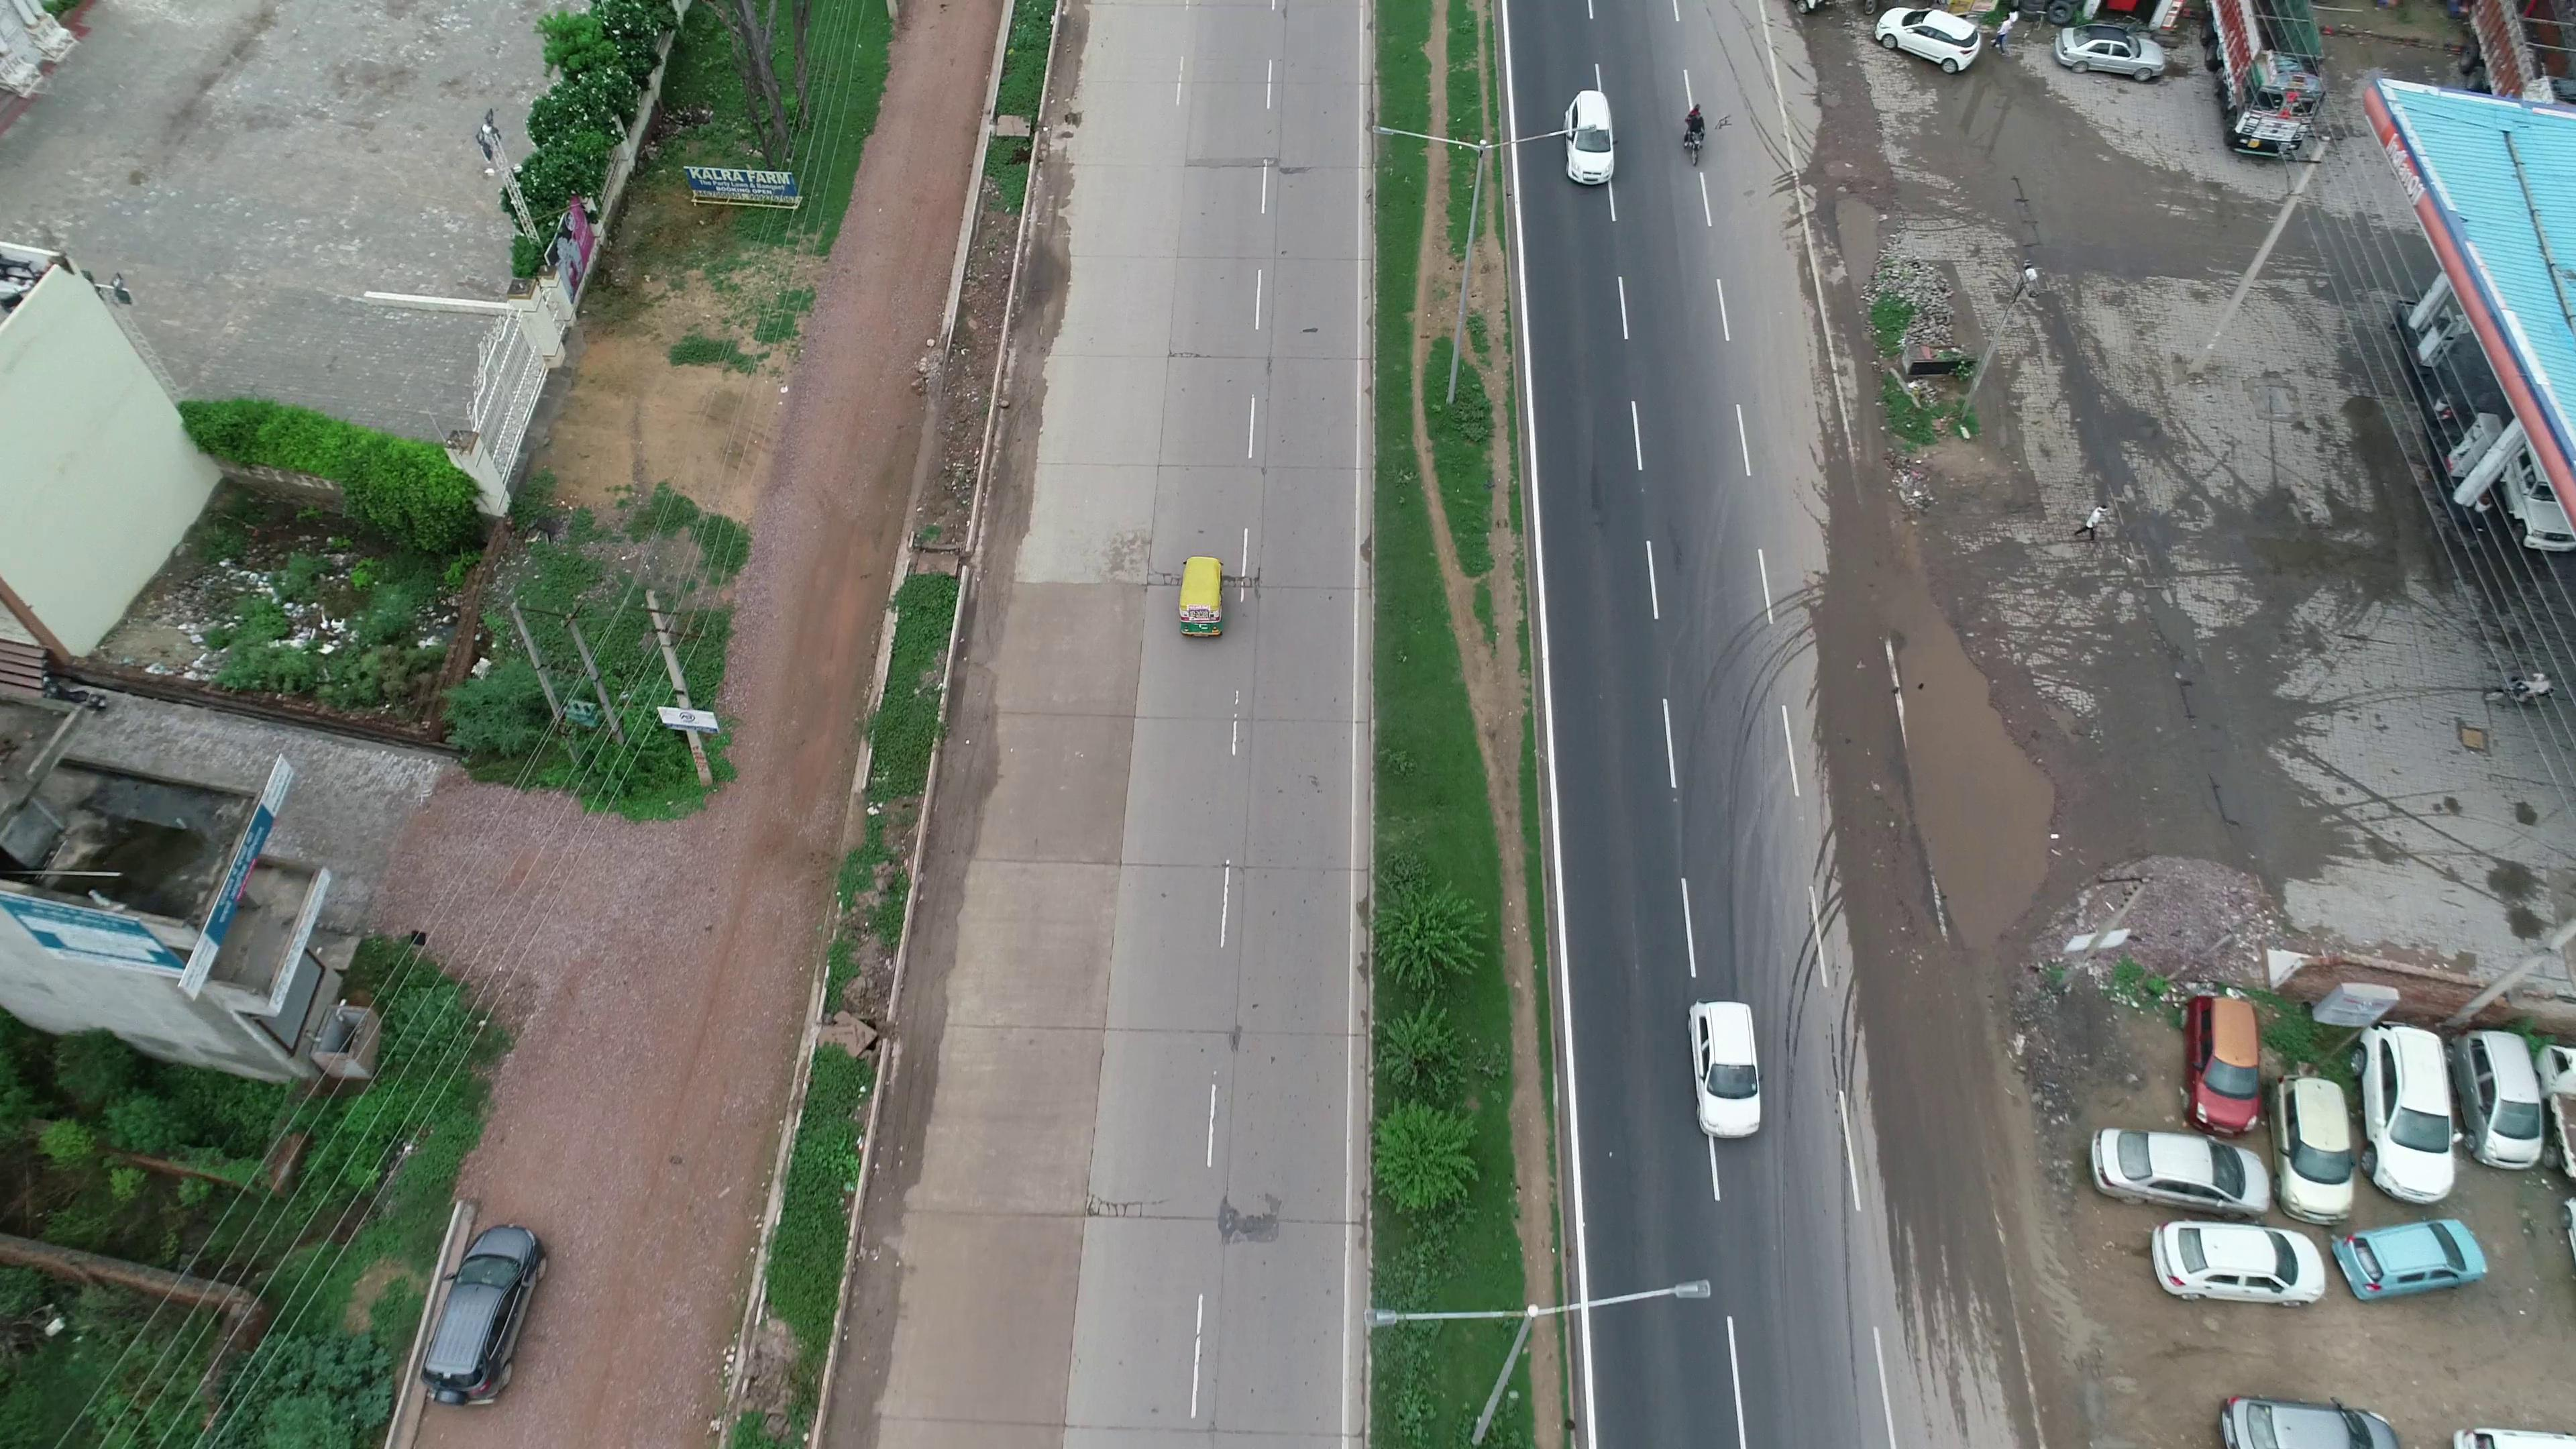Waterlogging: (1845, 547, 2065, 985)
